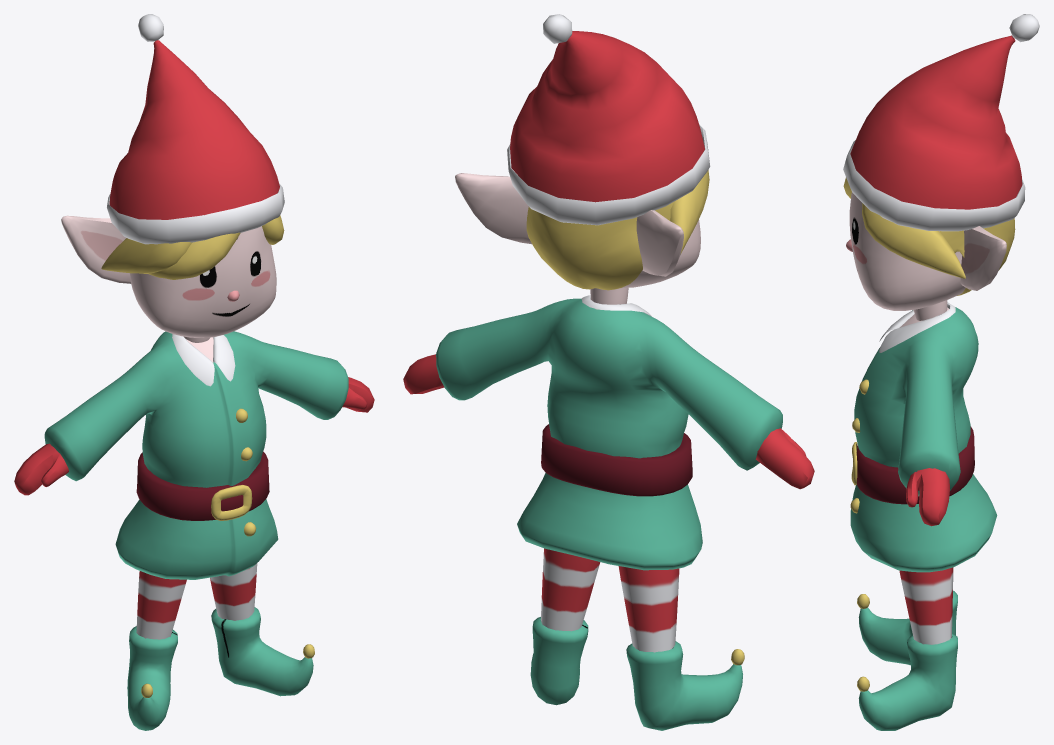
Rendered from elf.fbx.
3 views of the same model, side by side, from view 1: azimuth 30°, elevation 25°; view 2: azimuth 150°, elevation 25°; view 3: azimuth 270°, elevation 25° (orthographic). The views are drawn at different scales.
Visible parts, largest first — view 1: Object_2, Object_2.001; view 2: Object_2, Object_2.001; view 3: Object_2, Object_2.001.
Part boxes in pixels (bbox=[...]): Object_2: bbox=[14, 14, 374, 697]; Object_2.001: bbox=[127, 607, 313, 730]; Object_2: bbox=[403, 14, 814, 665]; Object_2.001: bbox=[530, 617, 742, 730]; Object_2: bbox=[843, 14, 1039, 691]; Object_2.001: bbox=[858, 590, 957, 730].
Size of the model in its own units: 249 by 433 by 114.
